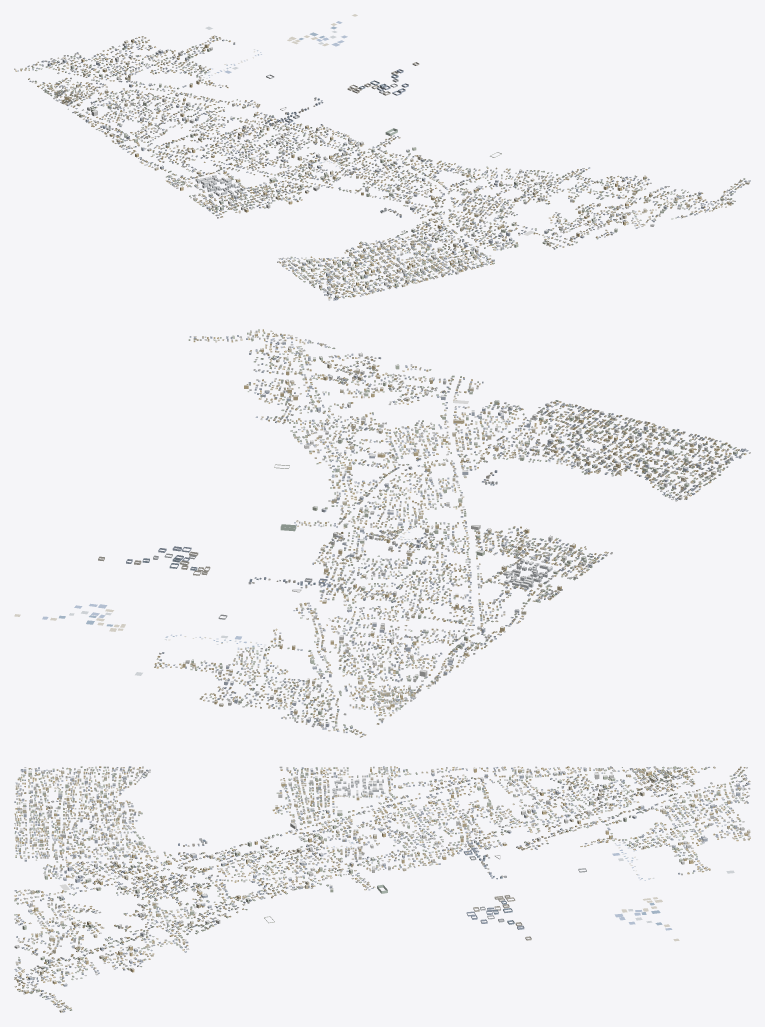
3 renders of one model, top to bottom at view 1: azimuth 30°, elevation 25°; view 2: azimuth 150°, elevation 25°; view 3: azimuth 270°, elevation 25°, orthographic. The views are drawn at different scales.
Parts seen in each view (by area): view 1: house, apartment, roof_zinc, roof_flat, factory; view 2: house, roof_zinc, apartment, roof_flat, factory; view 3: house, roof_zinc, apartment, roof_flat, factory.
Boxes of the visible parts, x1,y1,x2,y2 form: house: (14,35,750,300); apartment: (47,39,749,297); roof_zinc: (16,14,750,300); roof_flat: (48,39,748,296); factory: (264,62,419,217); house: (154,329,750,737); roof_zinc: (14,329,750,737); apartment: (182,332,737,726); roof_flat: (183,332,736,724); factory: (98,470,497,619); house: (14,766,750,1012); roof_zinc: (14,767,749,1012); apartment: (14,767,750,1012); roof_flat: (15,767,749,1010); factory: (178,838,586,940).
Bounding box in the file's own units: 1.14e+08 × 935570 × 1.45e+08.
